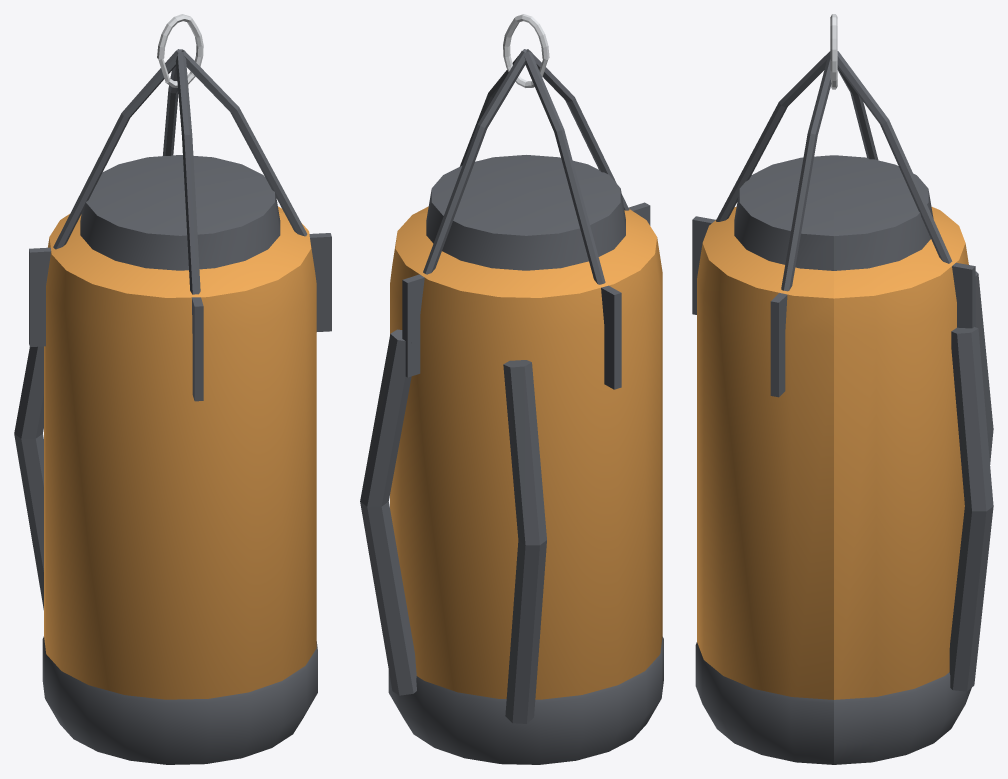
The model's file is mountaineering-and-summit-expedition-haul-bag-ff9e5d3b__18808.glb.
3 views of the same model, side by side, from view 1: azimuth 30°, elevation 25°; view 2: azimuth 150°, elevation 25°; view 3: azimuth 270°, elevation 25° (orthographic).
Parts seen in each view (by area): view 1: haul-bag; view 2: haul-bag; view 3: haul-bag.
Boxes of the visible parts, bbox=[...] form: haul-bag: bbox=[14, 14, 331, 764]; haul-bag: bbox=[360, 14, 663, 764]; haul-bag: bbox=[692, 14, 993, 764].
Size of the model in its own units: 0.4345 by 1.18 by 0.4618.
